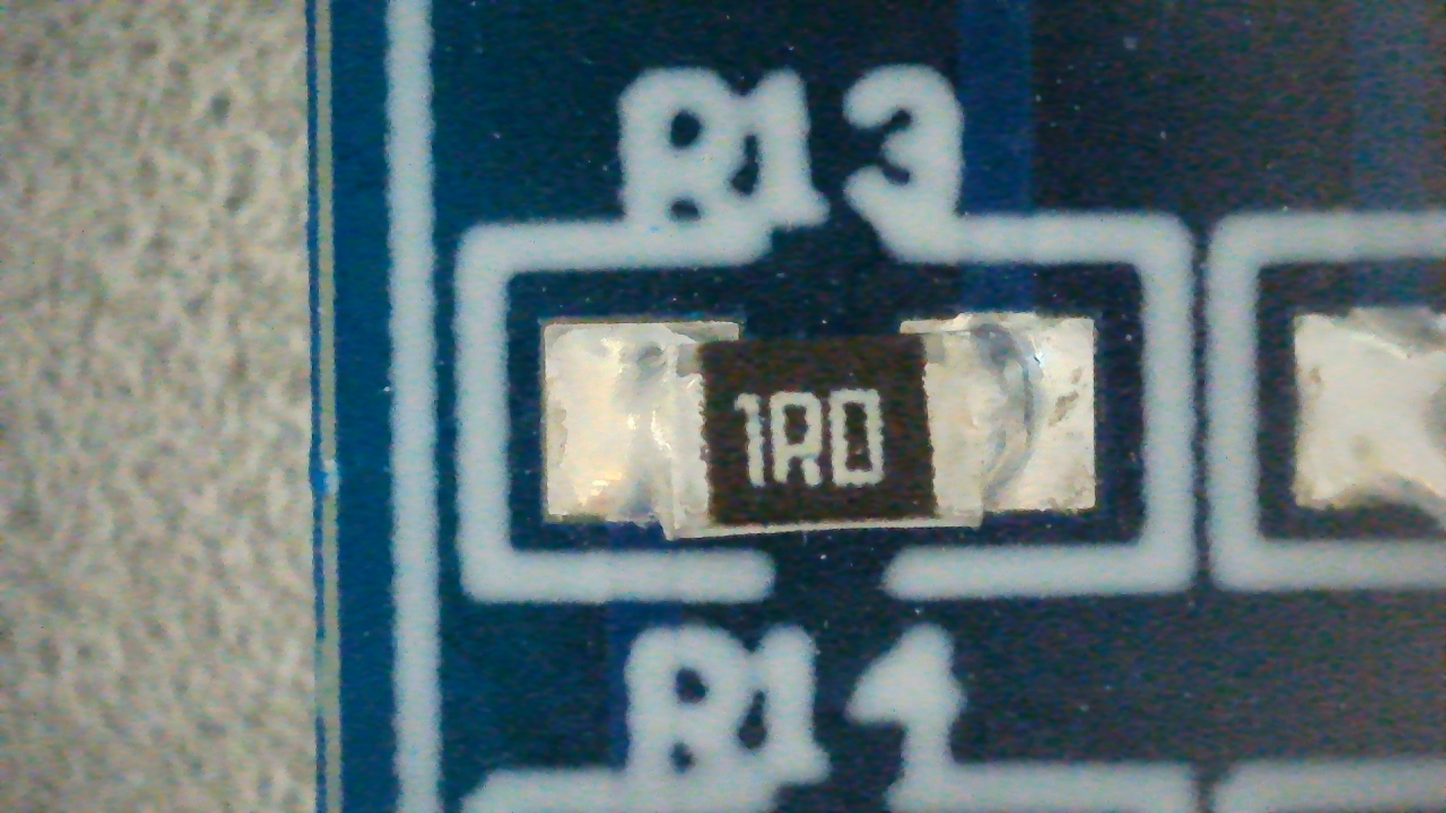NG: (545, 312, 1095, 541)
